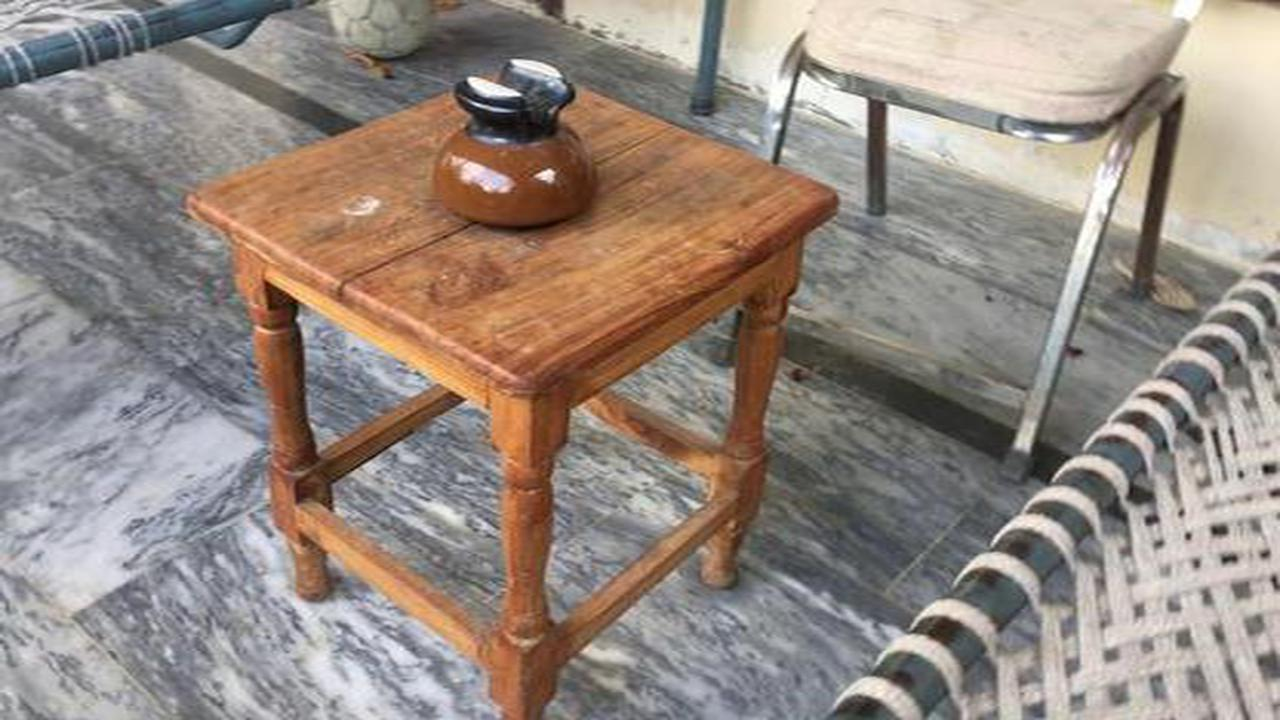insulator_pin: (404, 45, 628, 241)
